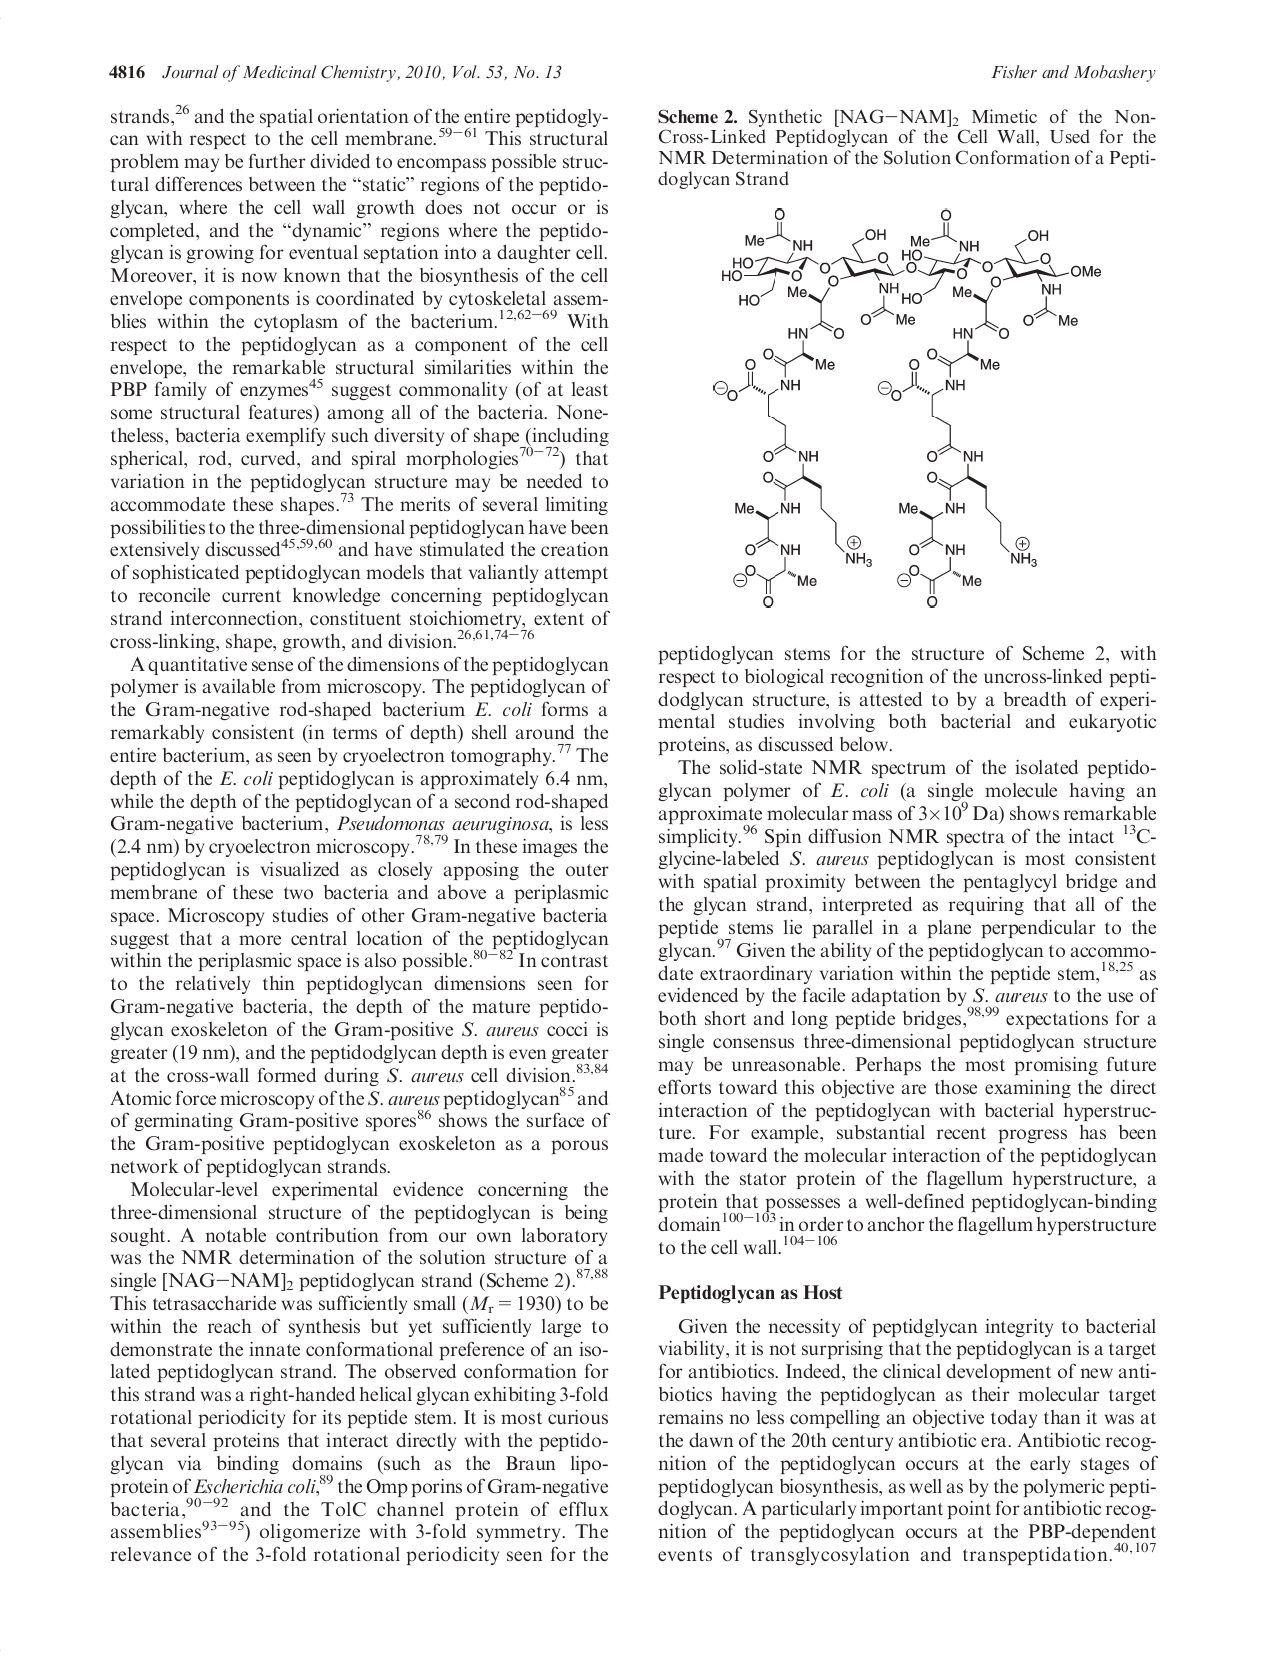exist_molecular: (711, 199, 1108, 617)
